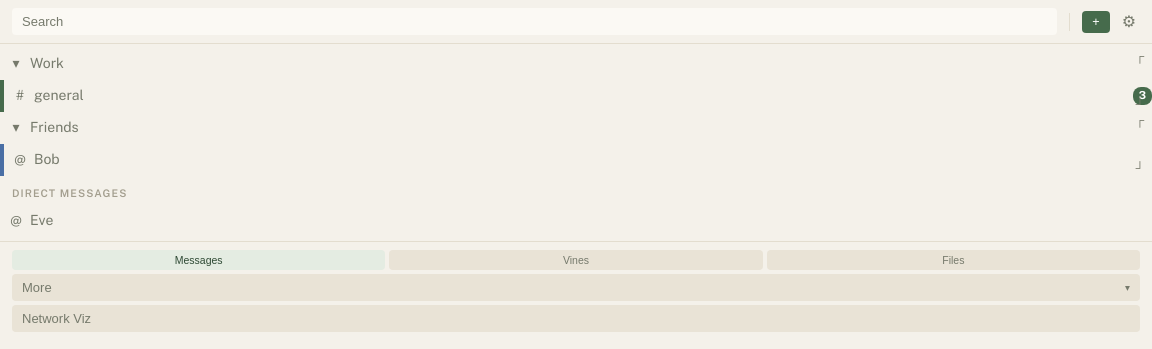
Test case: NavPanel › FAB + fan-out menu (ZEB-263) › Escape closes the popover
Click the button named "Create new": (1096, 22) left=1082, top=10, right=1110, bottom=32
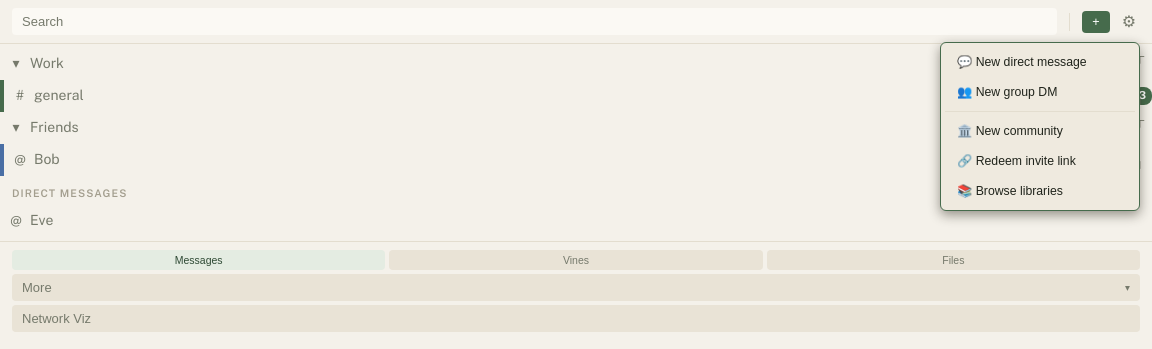
Expected: the menu item "🏛️ New community" is shown, left=945, top=116, right=1135, bottom=146
Press Escape
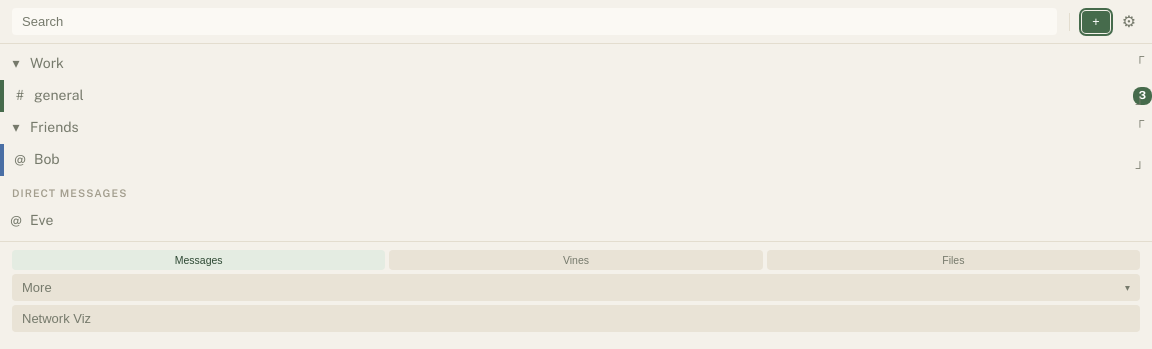
Expected: the menu item "New community" is gone
